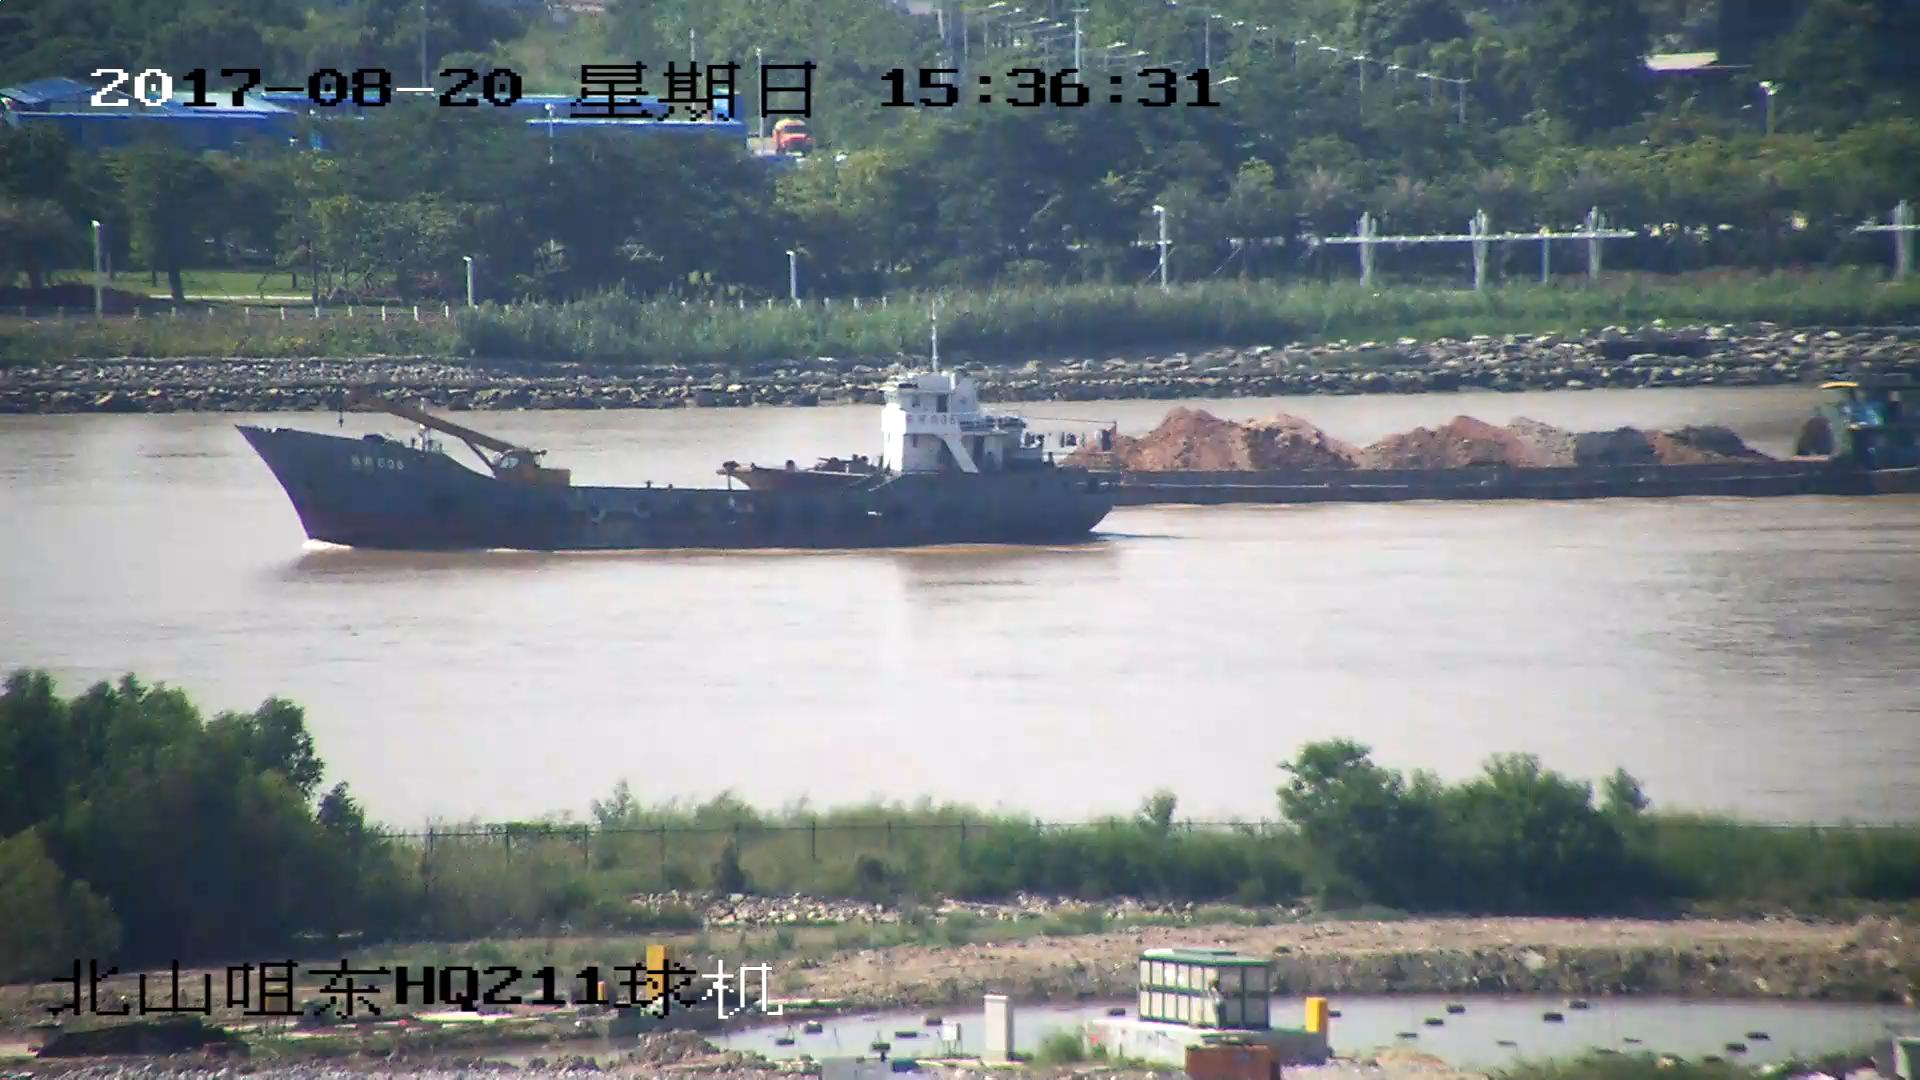general cargo ship: (239, 299, 1118, 547)
ore carrier: (727, 378, 1920, 500)
